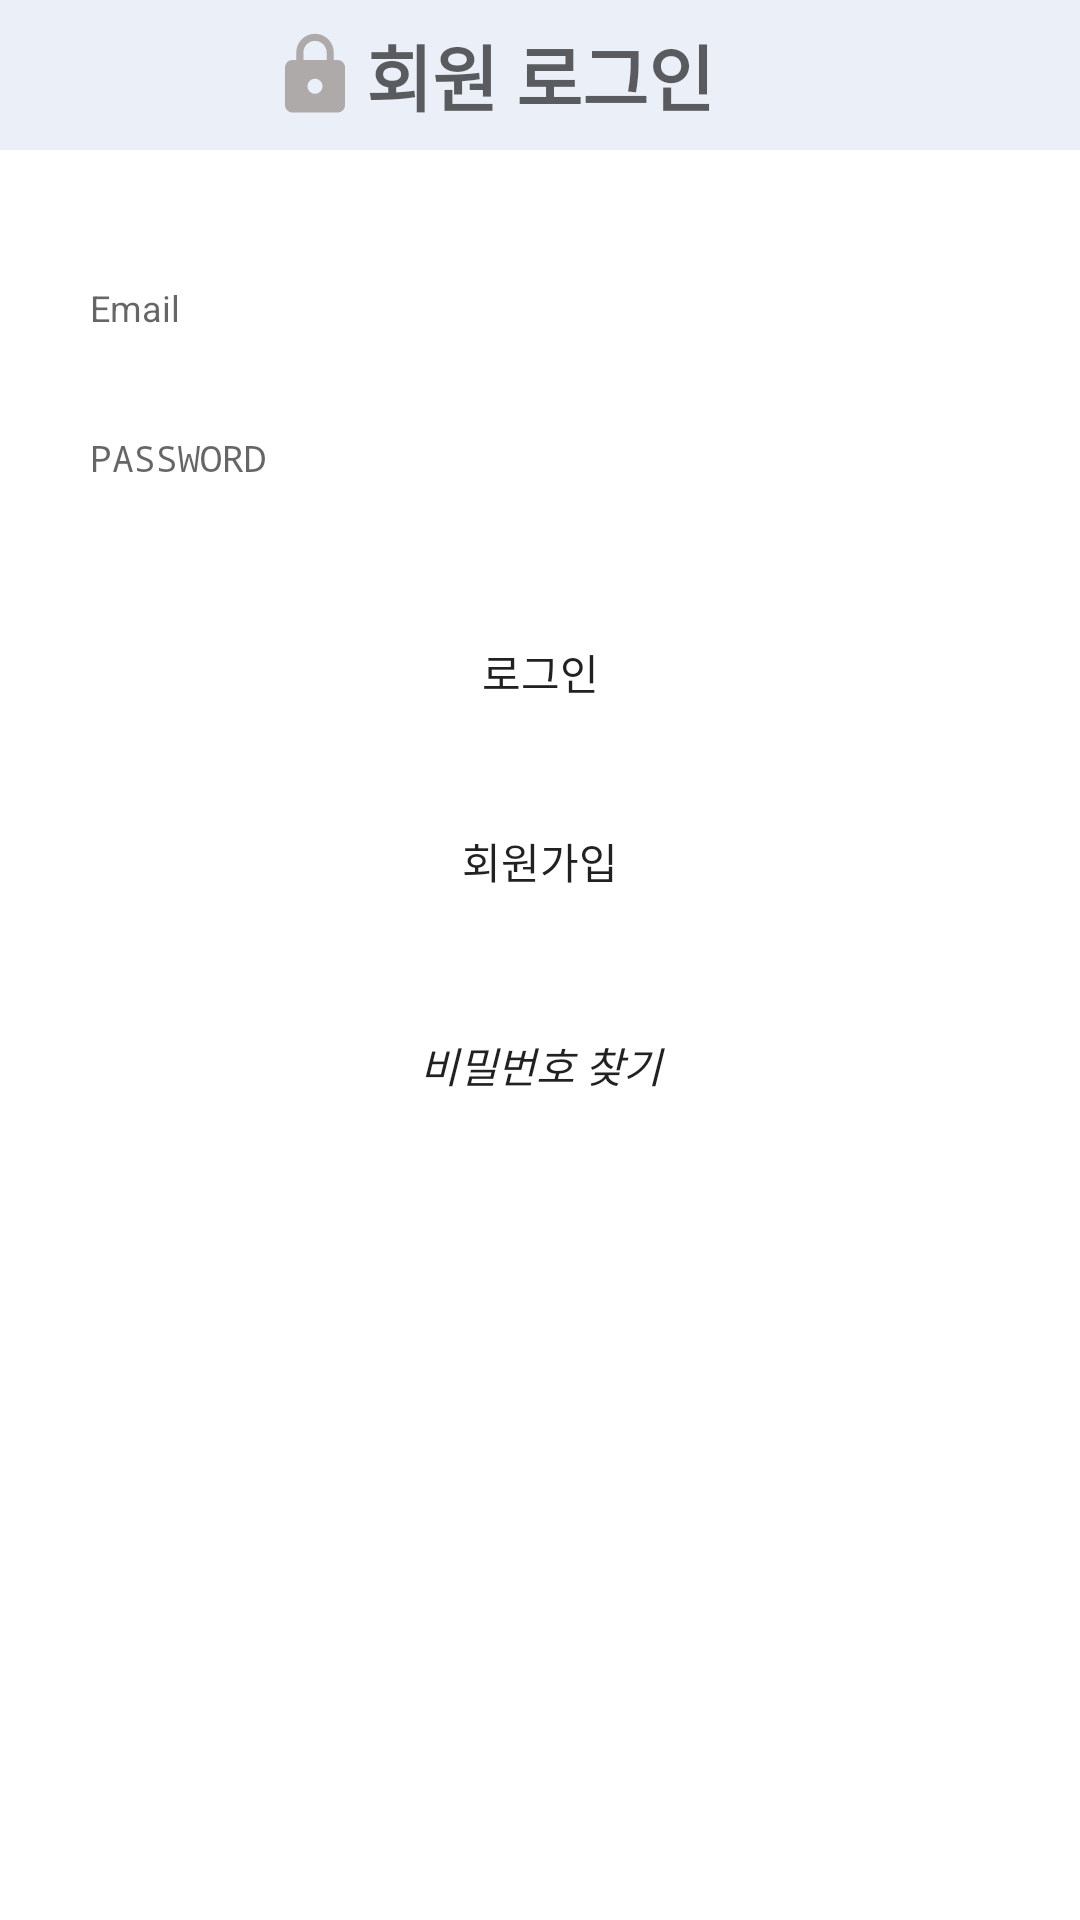

Named icons in this screenshot (1080x1920) and their bounding boxes, (x1, y1, x2, y2):
lock: (285, 34, 345, 113)
